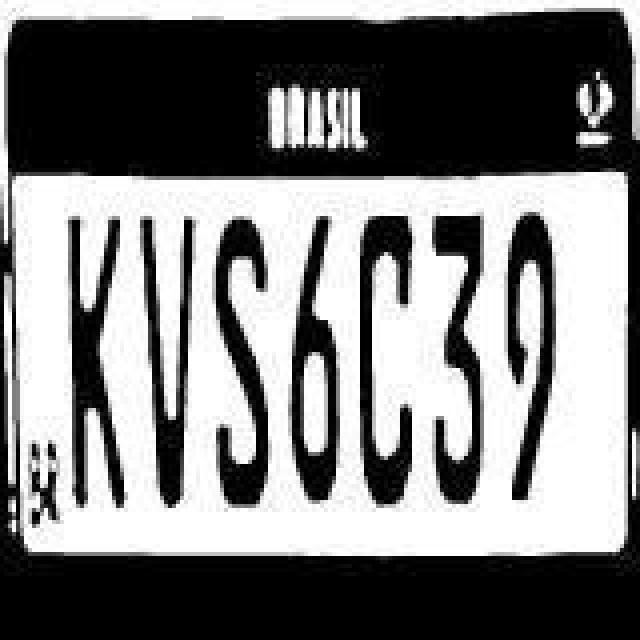3: (430, 212, 498, 524)
6: (276, 214, 348, 522)
9: (498, 206, 566, 514)
C: (352, 218, 416, 518)
K: (66, 214, 142, 522)
S: (204, 212, 276, 516)
V: (138, 212, 198, 508)
